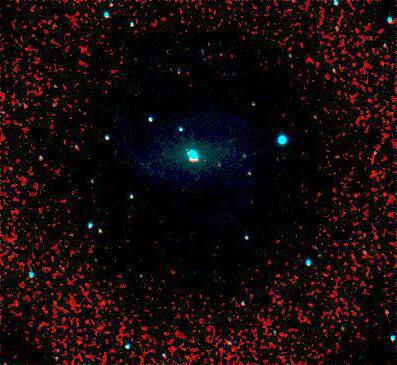star: (179, 125, 209, 155)
